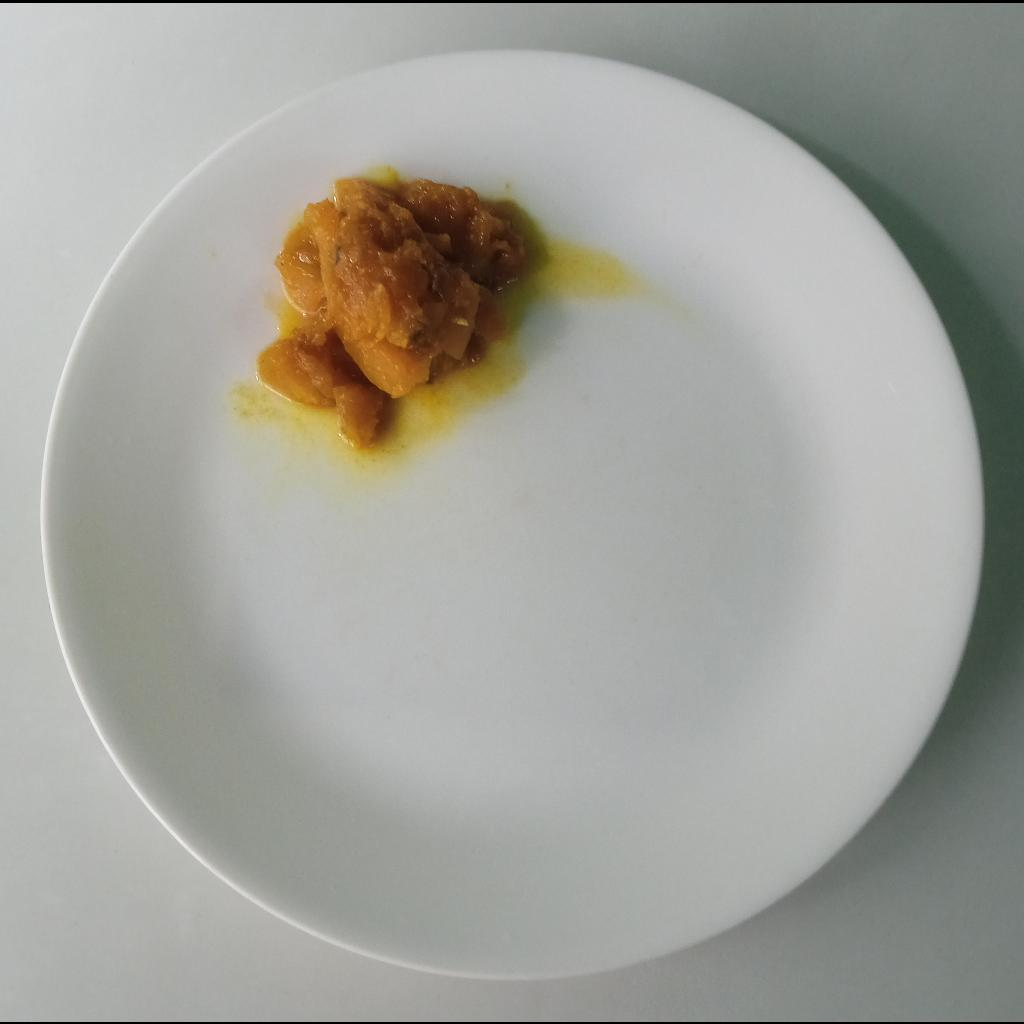kumra-vaji: (262, 174, 534, 447)
